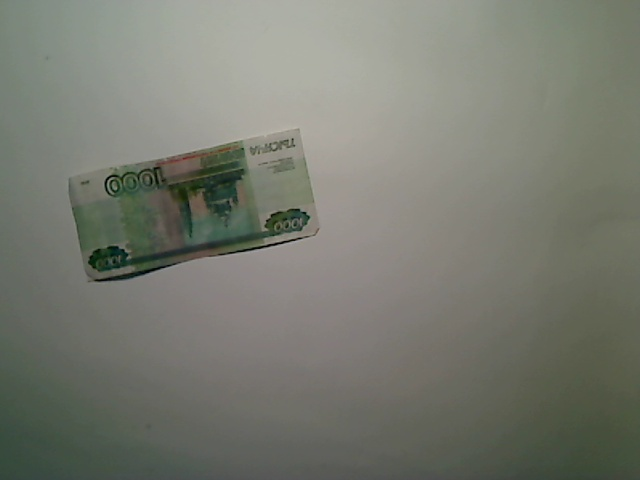banknotes: (59, 117, 326, 286)
